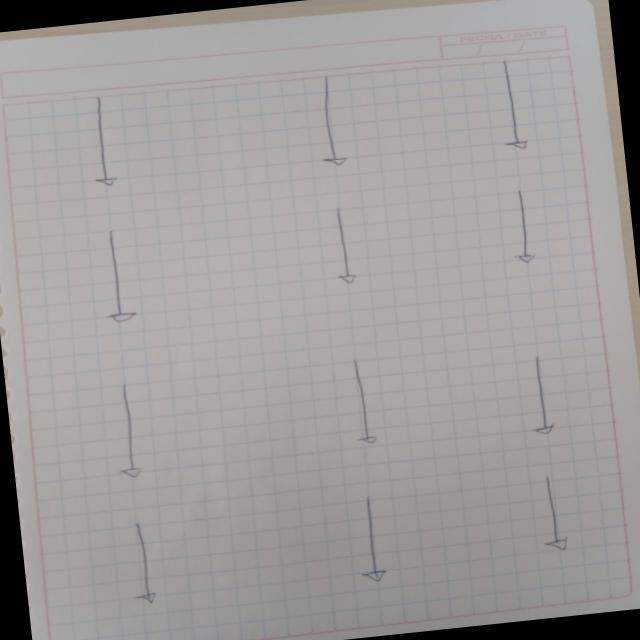arrow_line_down: (80, 223, 152, 336), (316, 199, 372, 310), (102, 379, 155, 485), (78, 92, 130, 200), (336, 357, 392, 454), (490, 52, 540, 160), (518, 350, 571, 451), (530, 472, 584, 554), (116, 520, 166, 606), (318, 70, 354, 180), (348, 492, 387, 582), (500, 184, 540, 267)
